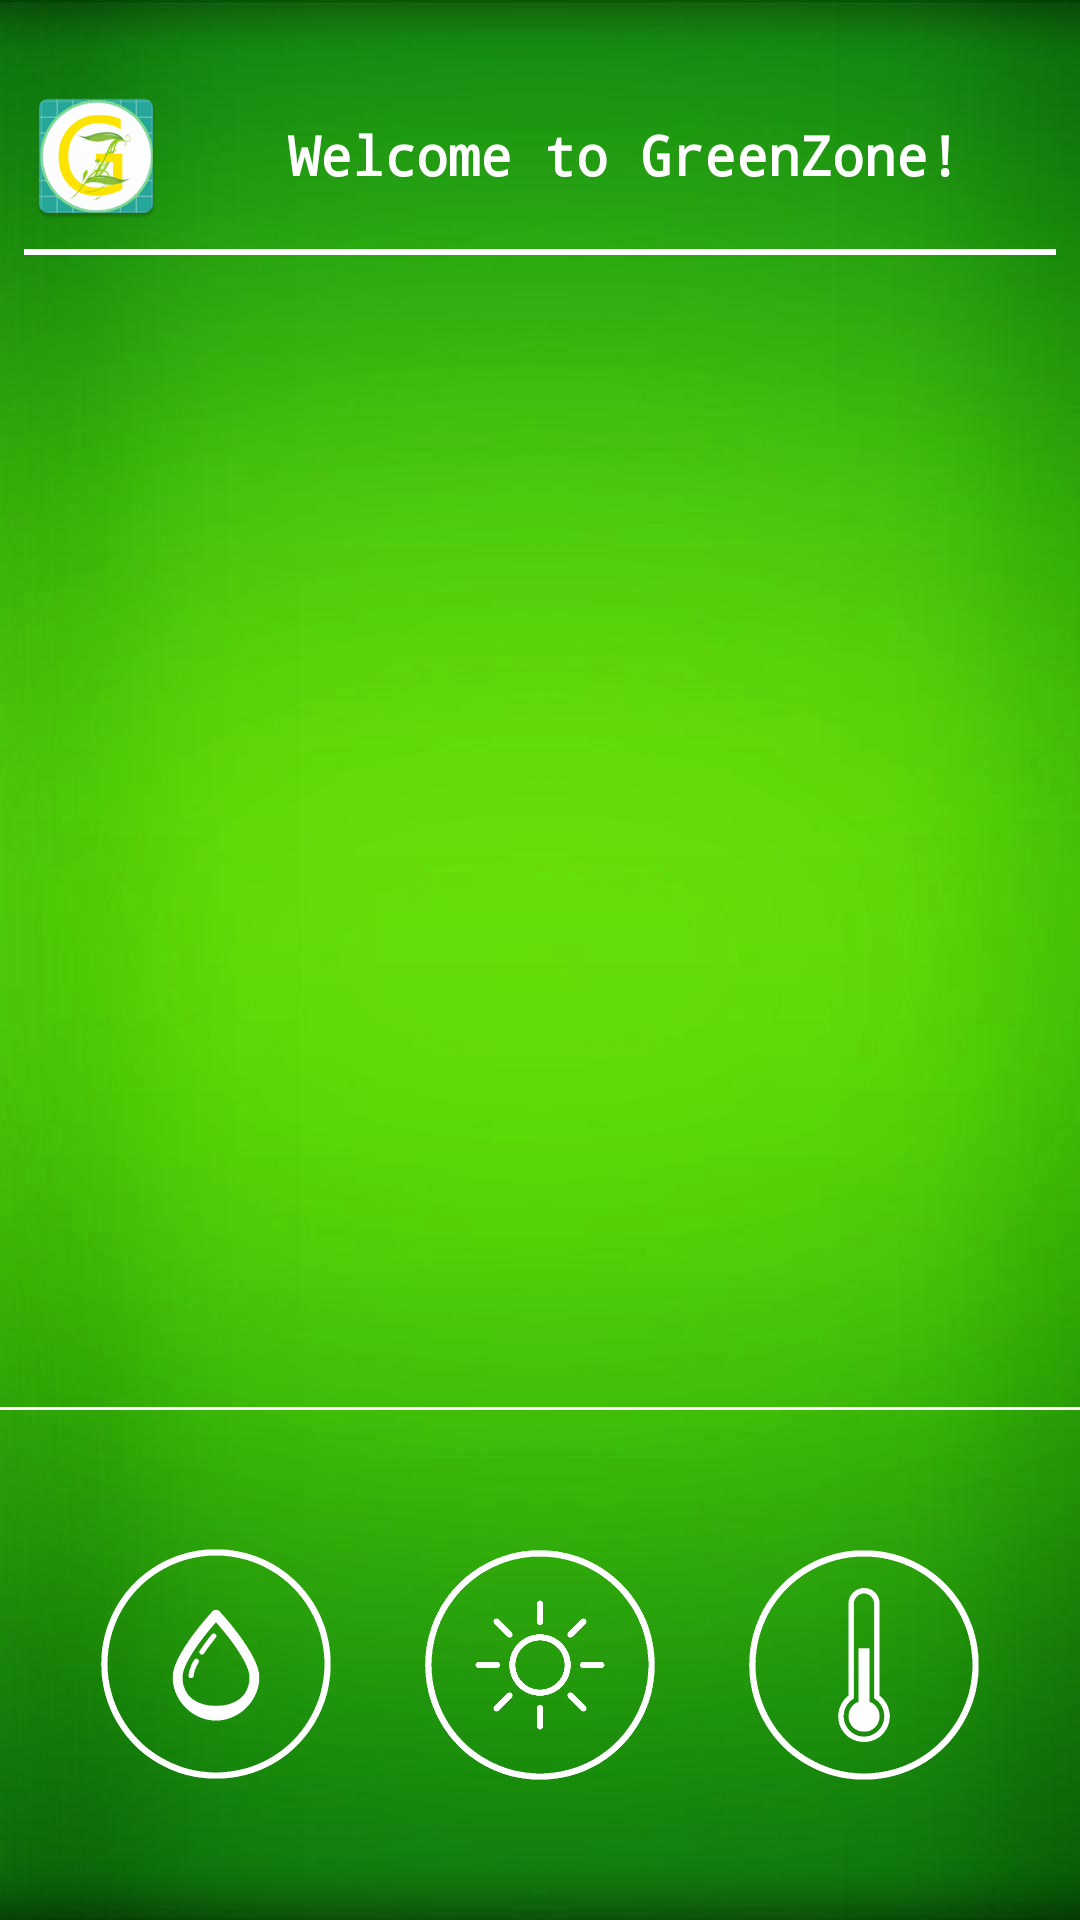

Icons on this 1080×1920 Android screen, each with the point to tap as [x,y]:
humidity: [216,1664]
temperature: [864,1665]
